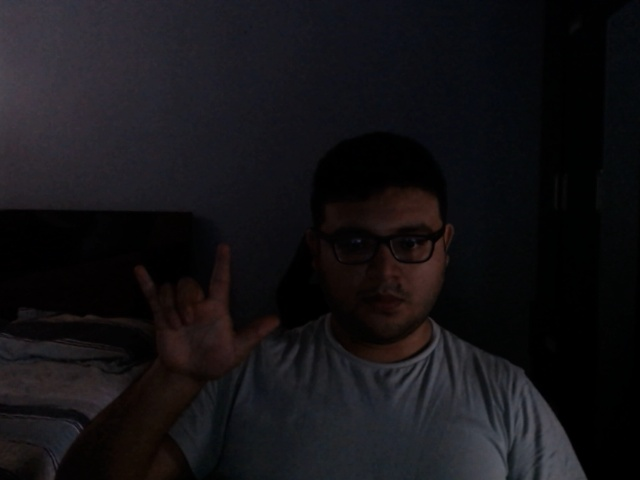I love you: (130, 240, 278, 390)
